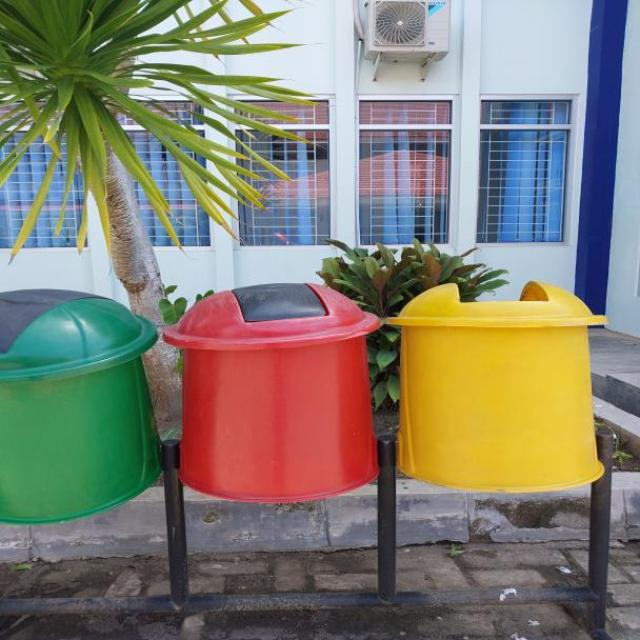dustbin ahead at: (0, 280, 617, 507)
